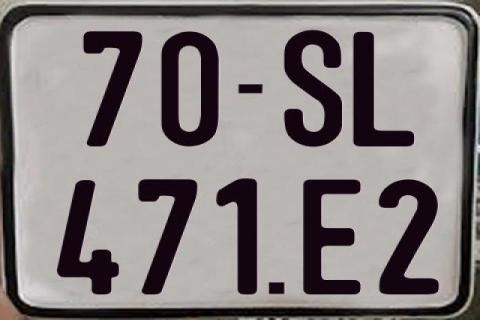0: (54, 180, 120, 297), (81, 29, 145, 148), (159, 29, 223, 148), (376, 178, 438, 298), (135, 177, 198, 293), (214, 178, 256, 294)
E: (300, 178, 361, 294)
L: (352, 32, 413, 151)
S: (284, 29, 346, 147)
